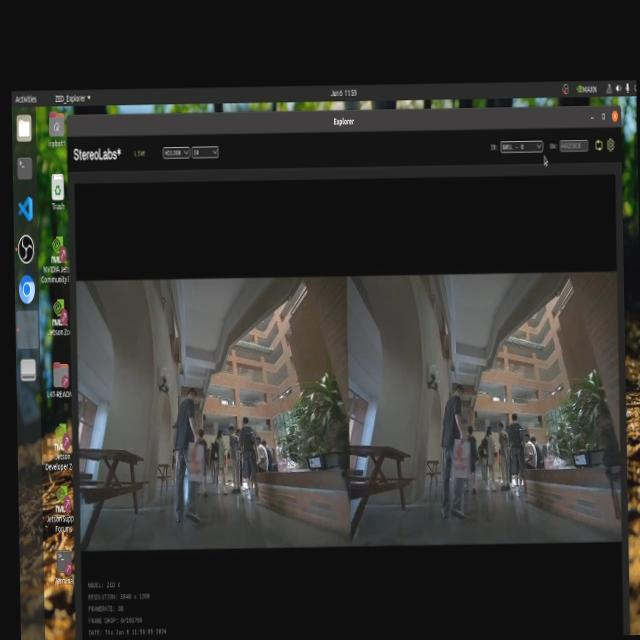red: (187, 442, 208, 488), (452, 436, 468, 478)
